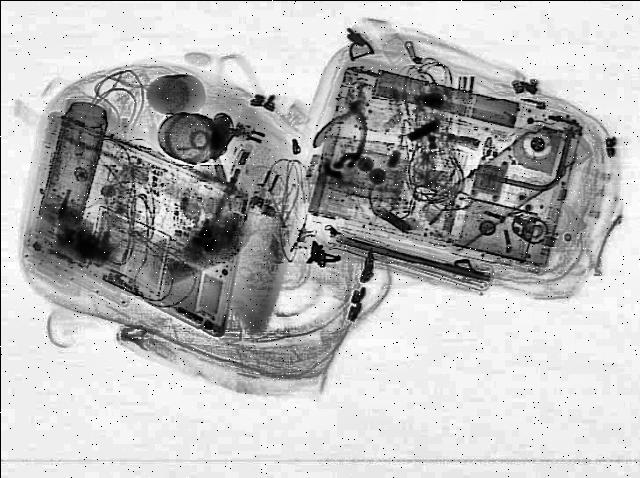Pliers: (308, 82, 382, 156)
